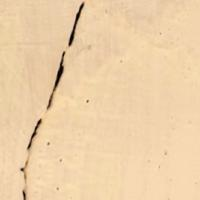crack: (23, 4, 86, 199)
